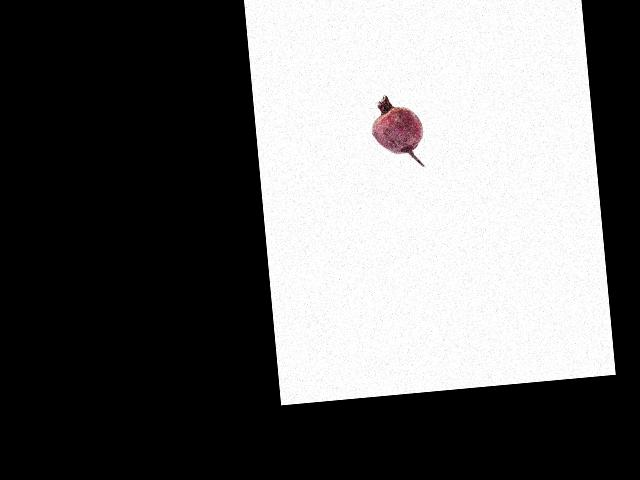beet: (369, 92, 426, 170)
